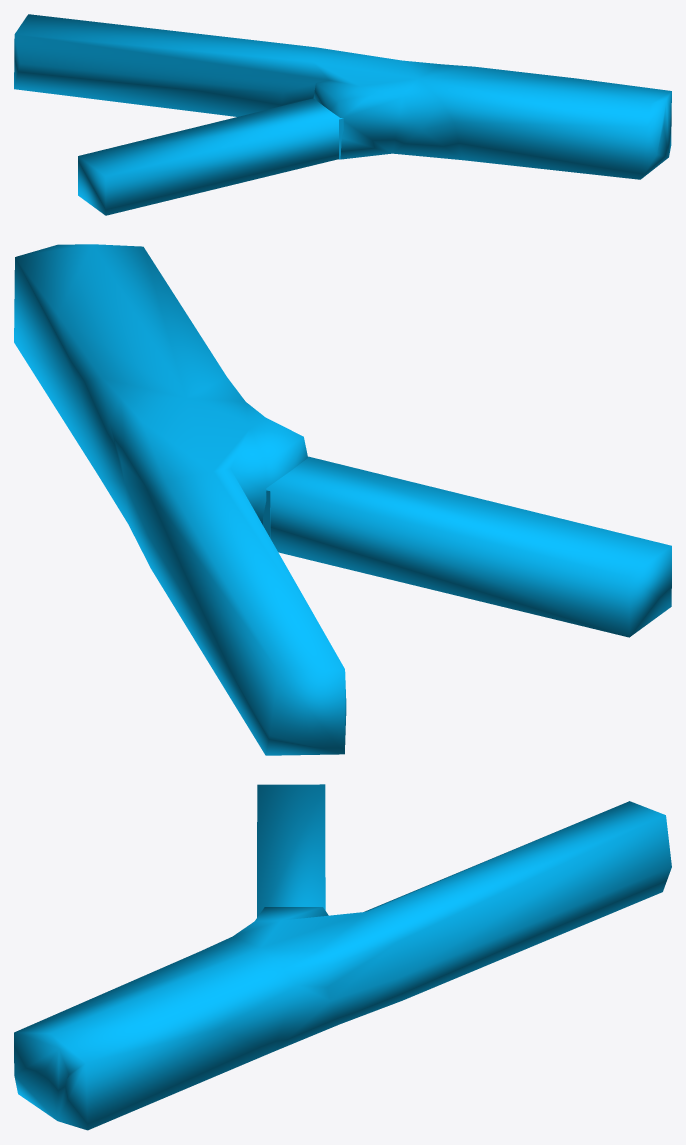
The model's file is RB_Env_col.fbx.
The picture shows the model from 3 angles, top to bottom: view 1: azimuth 30°, elevation 25°; view 2: azimuth 150°, elevation 25°; view 3: azimuth 270°, elevation 25°; orthographic projection. The views are drawn at different scales.
Visible parts, largest first — view 1: Collider_Mesh_SimpleComplex, Collider_Mesh_SimpleComplex_002; view 2: Collider_Mesh_SimpleComplex, Collider_Mesh_SimpleComplex_002; view 3: Collider_Mesh_SimpleComplex, Collider_Mesh_SimpleComplex_002.
Part boxes in pixels (left/top/right/bottom): Collider_Mesh_SimpleComplex: left=14, top=14, right=671, bottom=179; Collider_Mesh_SimpleComplex_002: left=78, top=98, right=341, bottom=215; Collider_Mesh_SimpleComplex: left=14, top=244, right=346, bottom=755; Collider_Mesh_SimpleComplex_002: left=266, top=456, right=671, bottom=637; Collider_Mesh_SimpleComplex: left=14, top=801, right=671, bottom=1130; Collider_Mesh_SimpleComplex_002: left=257, top=784, right=325, bottom=917.
Bounding box in the file's own units: 3862 × 459 × 3611.
